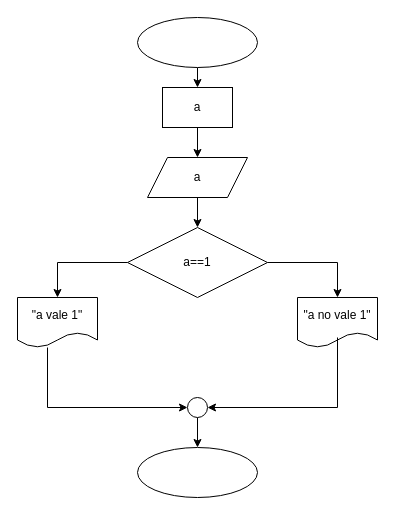
The diagram is 395 pixels wide and 515 high, and some of its shapes have lost their labels. The shapes that lost their labels are listed below. From the top down, each one's box as (x1, y1, x2, y2) in pixels, then its label:
(136, 16, 258, 68): INICIO
(136, 446, 258, 498): FIN
